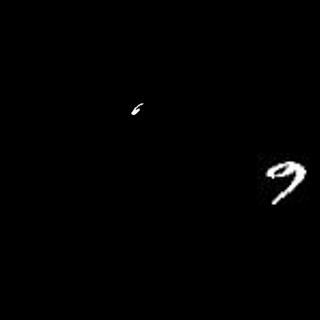nine: (264, 156, 308, 208)
six: (130, 99, 145, 116)
